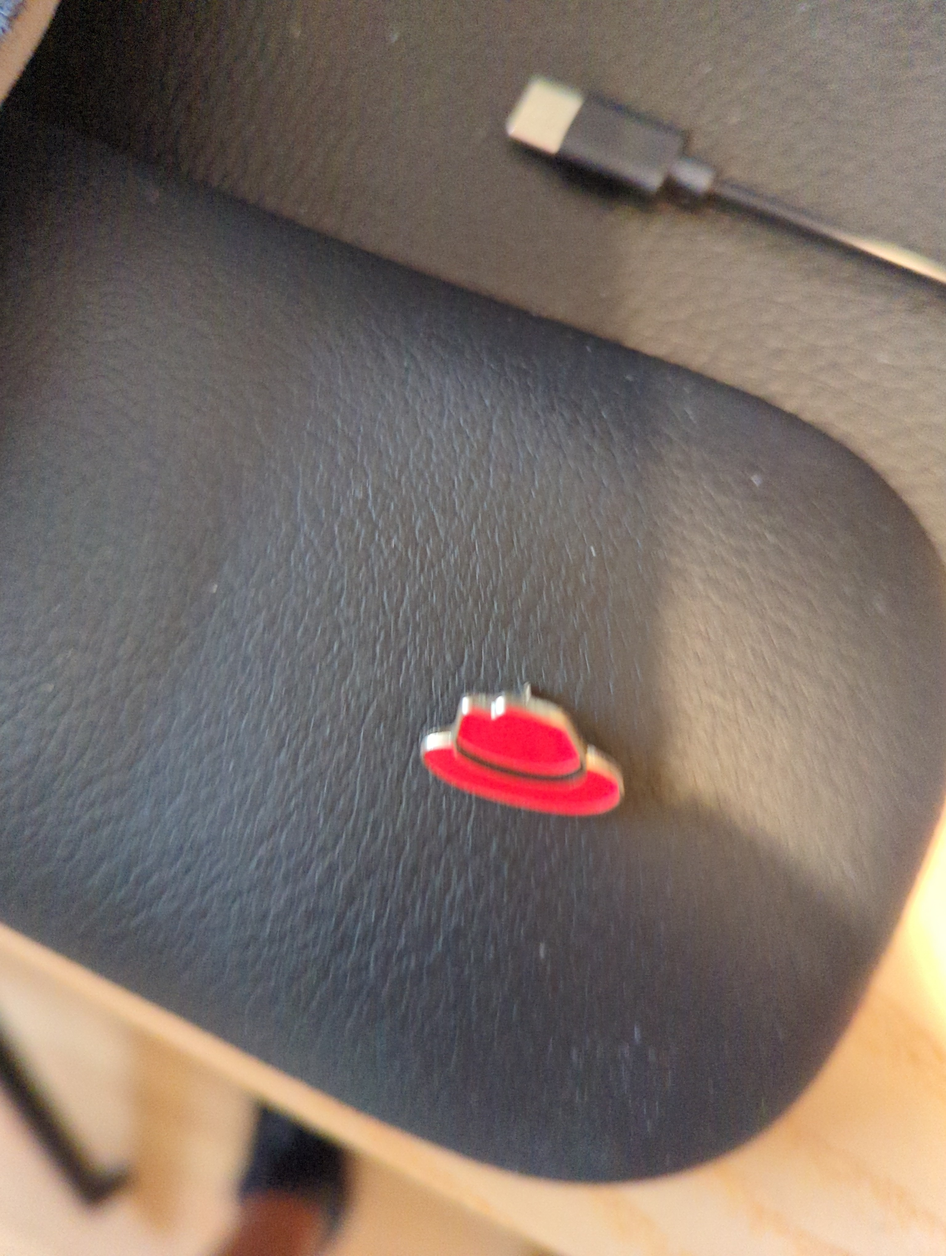Red-Hat: (359, 623, 695, 903)
